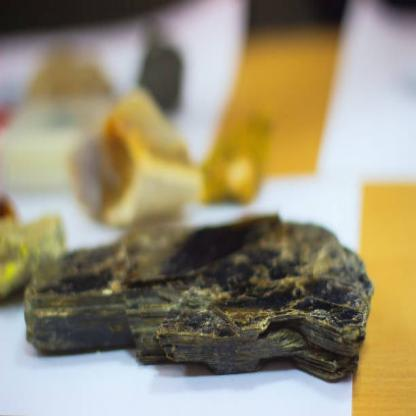Sedimentary_Limestone: (21, 216, 385, 381)
